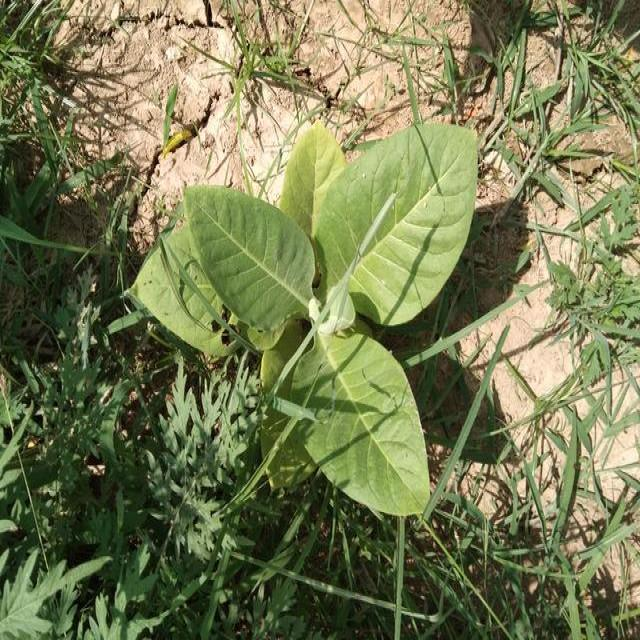crop: (134, 154, 486, 508)
